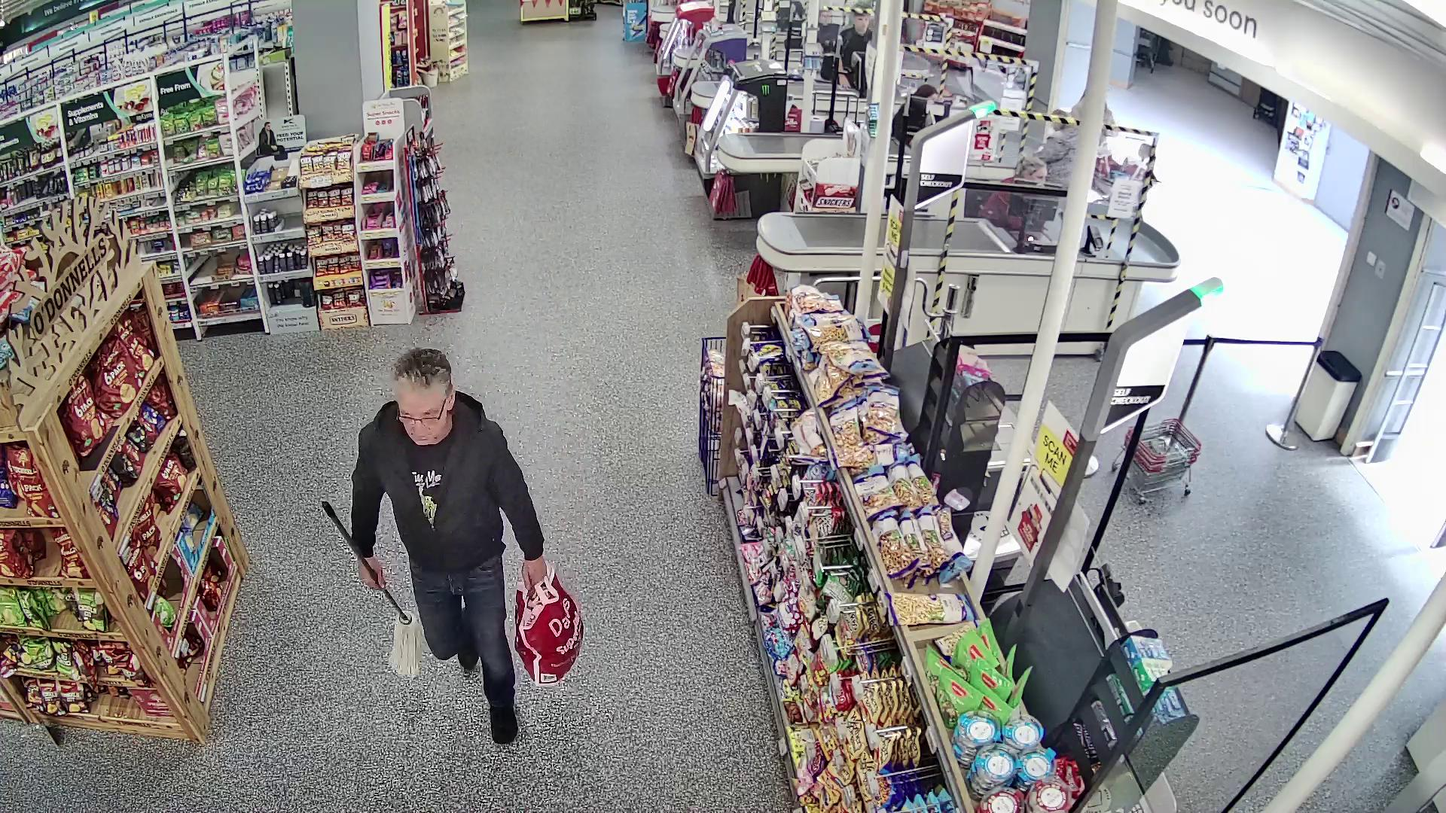carrying-item: (322, 500, 421, 680)
filled-shopping-bags: (513, 570, 586, 689)
person: (351, 346, 546, 744)
person with carrying item-s- and shopping bag-s-: (320, 346, 587, 745)
